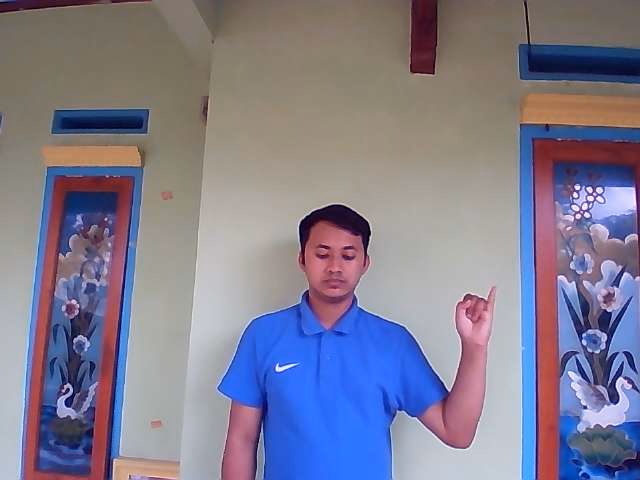I: (454, 285, 497, 349)
